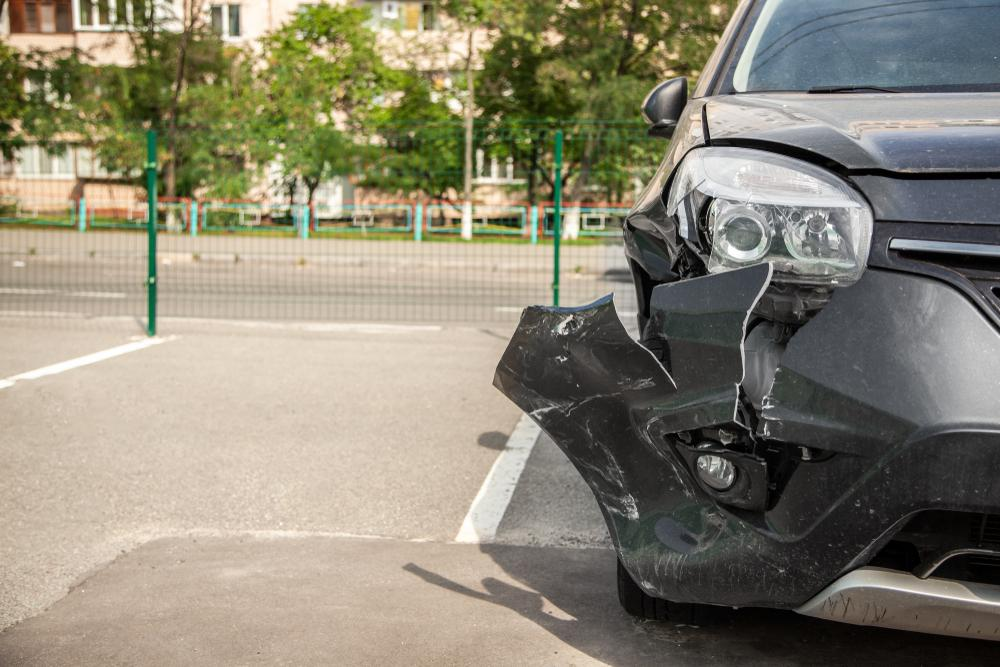crack: (732, 270, 835, 438), (612, 291, 677, 392)
dent: (590, 423, 727, 552), (625, 200, 683, 276)
lamp broken: (671, 147, 866, 287)
